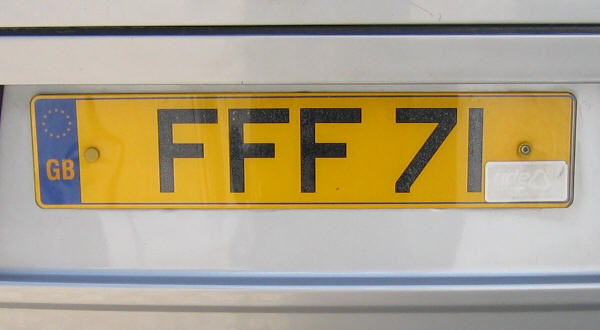license_plate: (30, 91, 578, 211)
